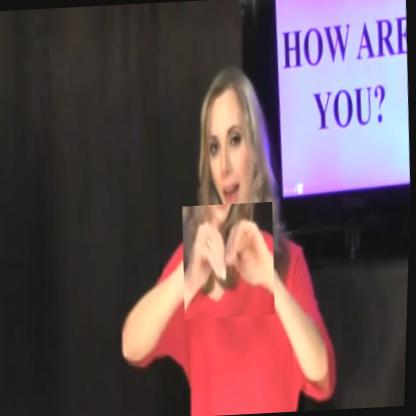HowAreYou: (181, 202, 279, 318)
